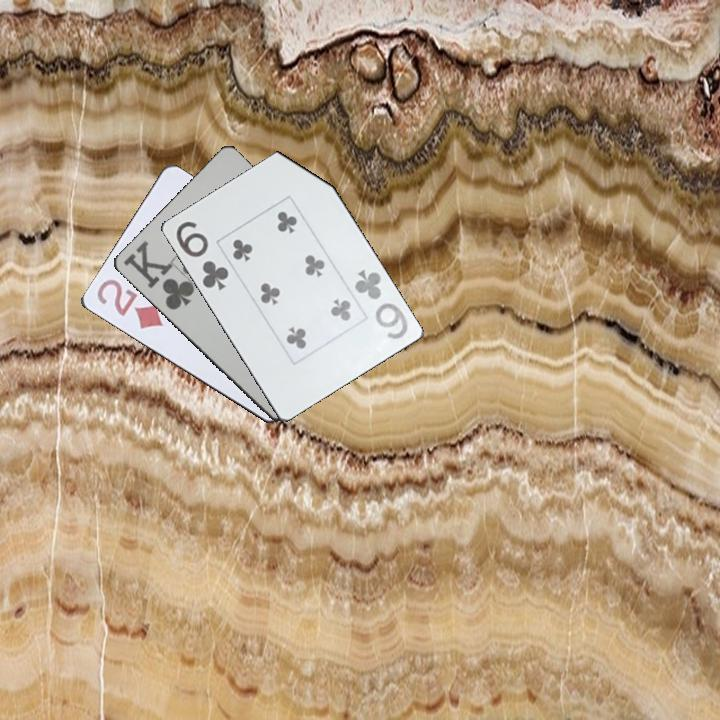2d: (93, 275, 166, 332)
6c: (350, 265, 411, 342), (171, 217, 231, 293)
Kc: (119, 238, 197, 313)
